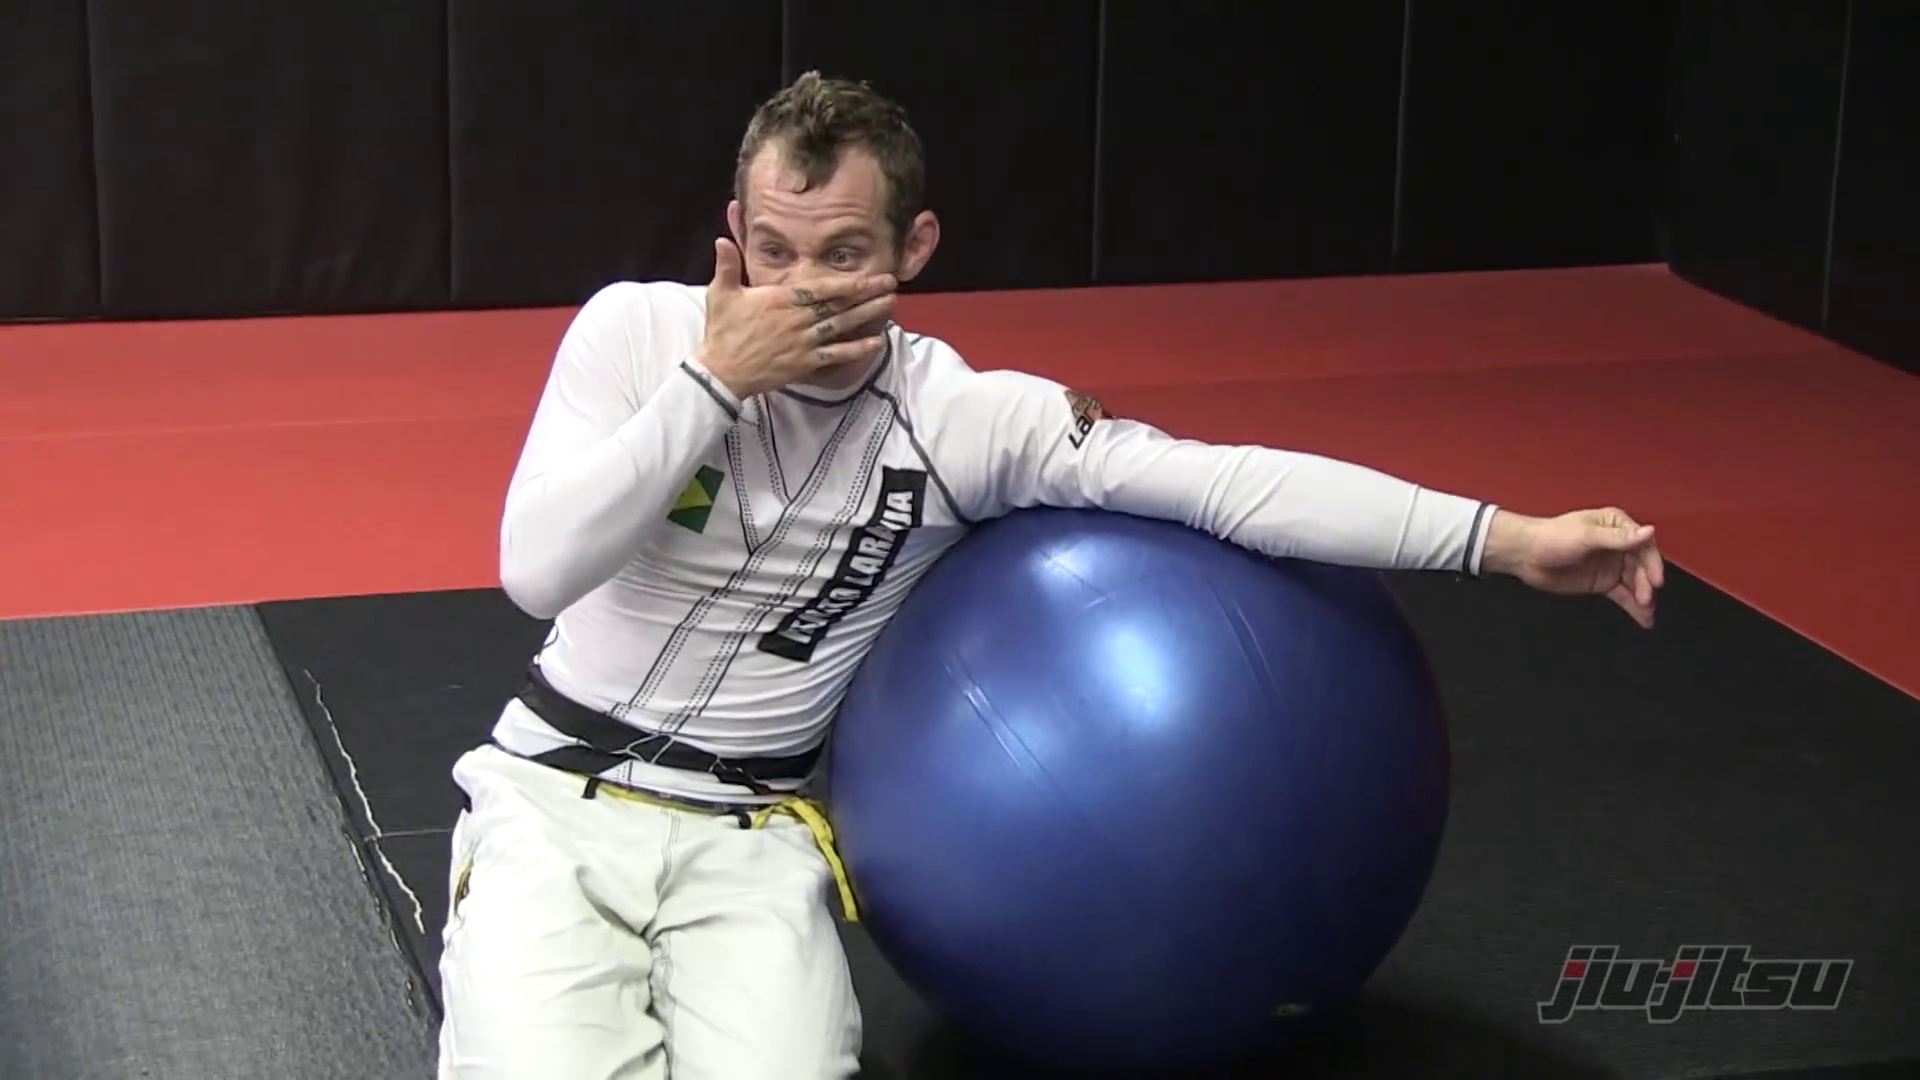yogaball: (841, 489, 1468, 1025)
